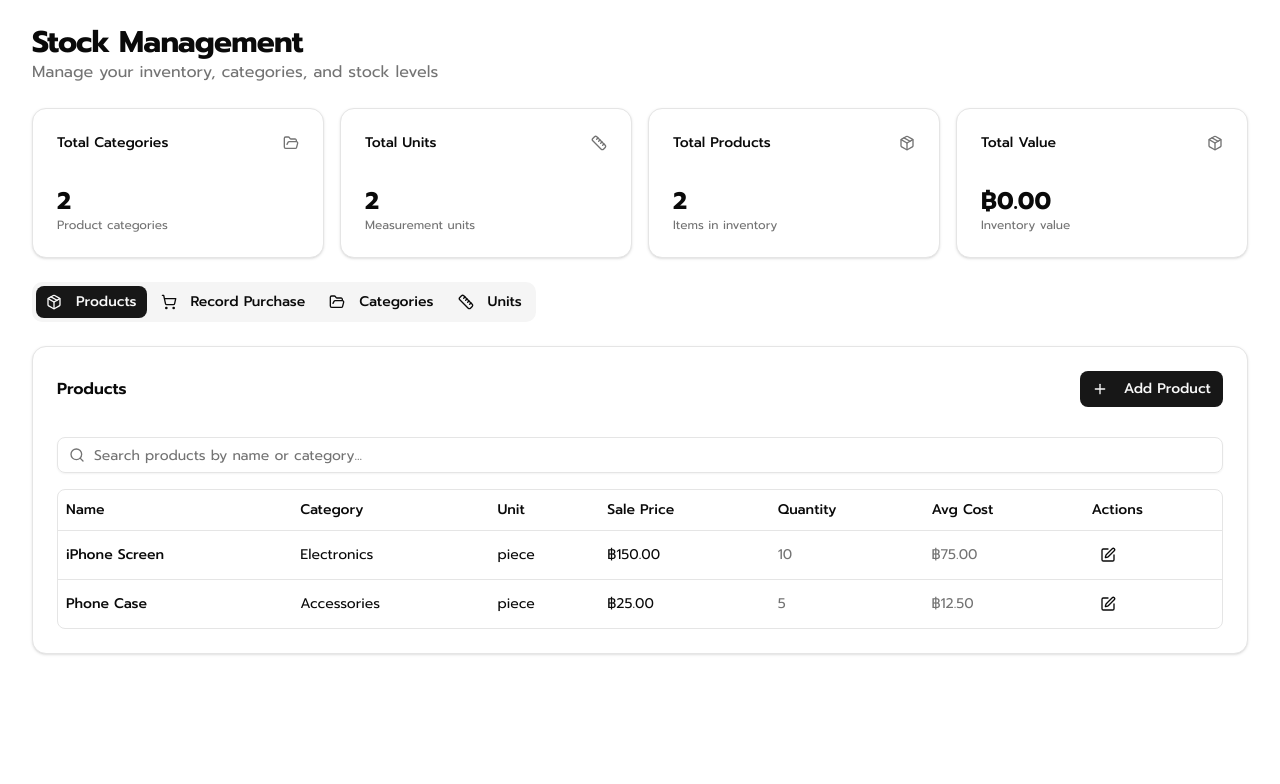
Test: StockPage - Purchase Recording › populates product dropdown with available products
The image size is (1280, 784).
Click the button "Record Purchase" at (233, 302), box [150,286,315,318]
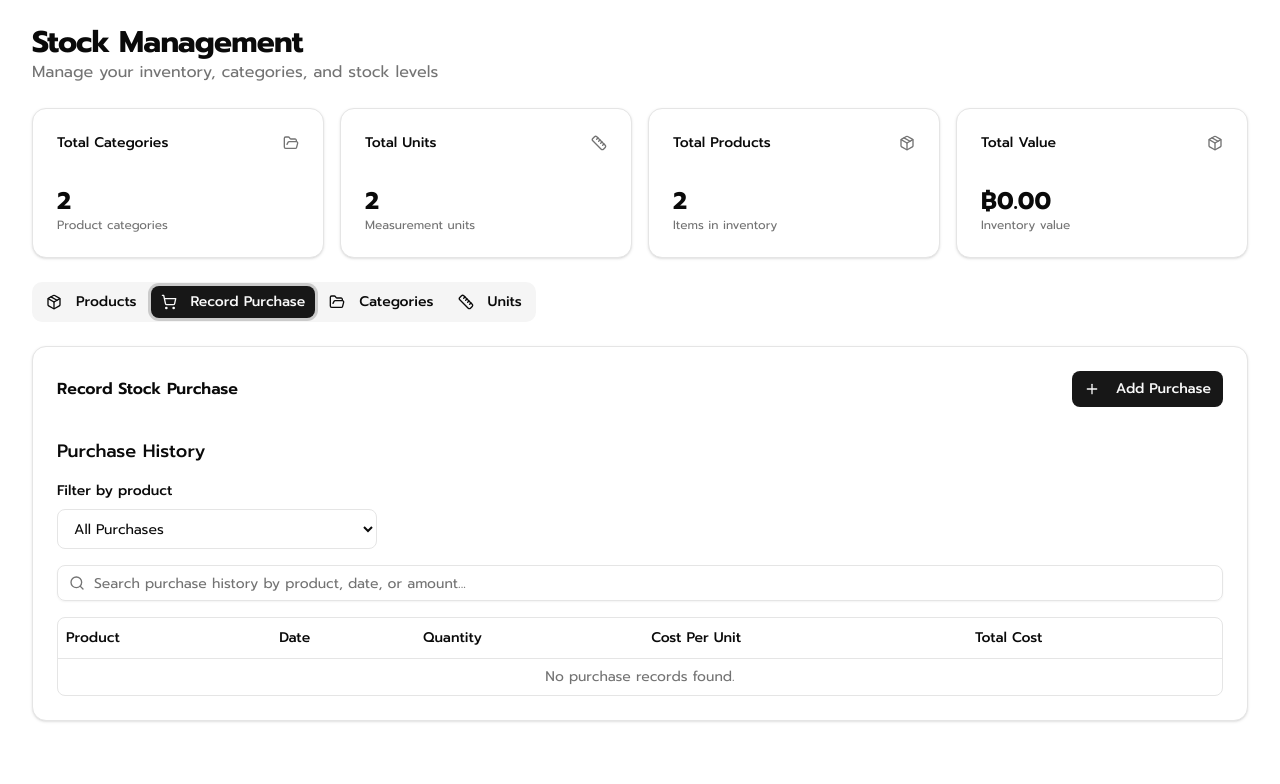
Click the button "Add Purchase" at (1147, 389), box [1072,371,1223,407]
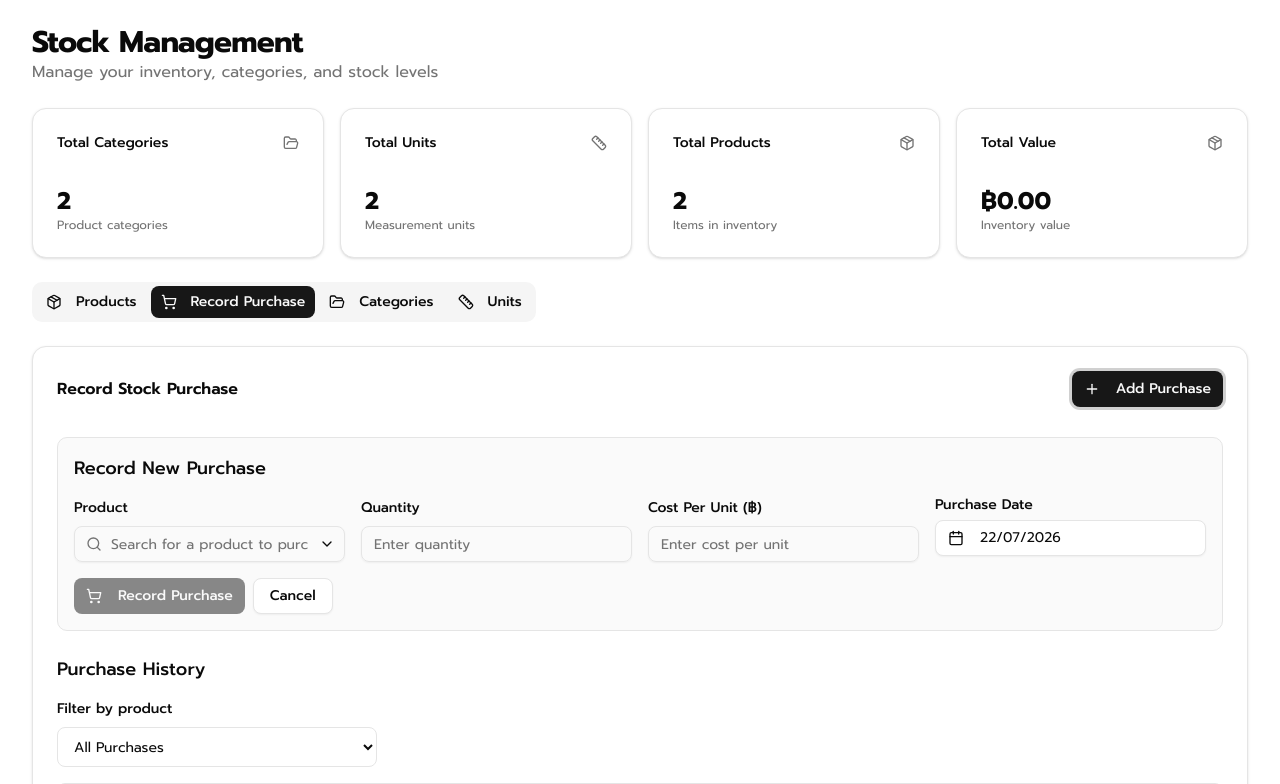
Click the button named "Toggle dropdown" at (327, 544), box [313,530,341,558]
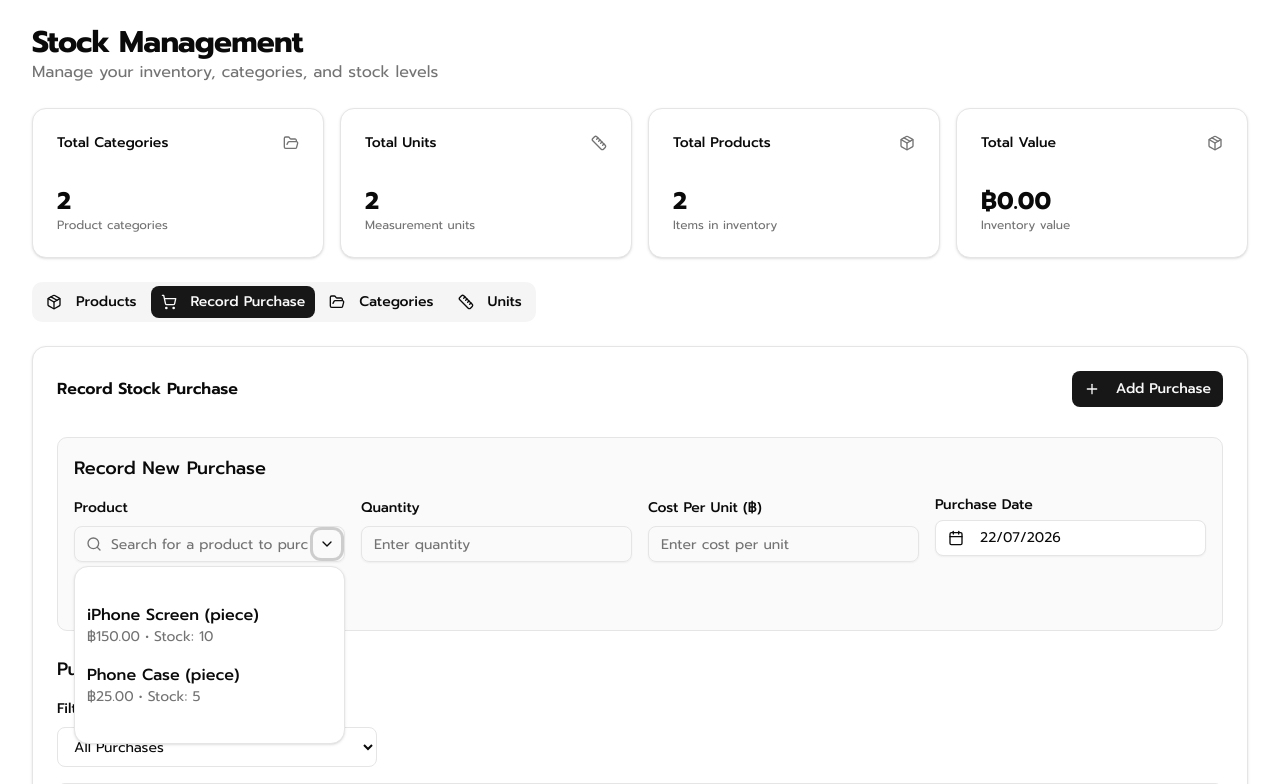
Result: the text "iPhone Screen (piece)" is shown at [87,603,259,627]
Result: the text "Phone Case (piece)" is shown at [87,663,239,687]
